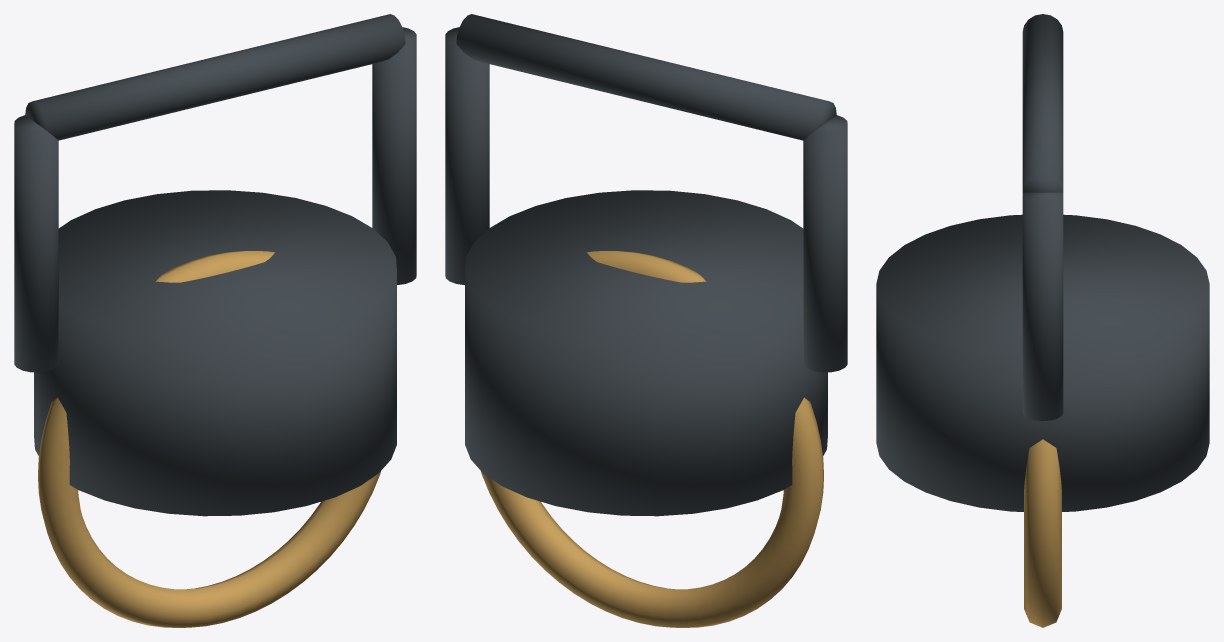
File: worklight.gltf
3 renders of one model, left to right at view 1: azimuth 30°, elevation 25°; view 2: azimuth 150°, elevation 25°; view 3: azimuth 270°, elevation 25°, orthographic. The views are drawn at different scales.
Parts seen in each view (by area): view 1: worklight; view 2: worklight; view 3: worklight.
Boxes of the visible parts, x1,y1,x2,y2 form: worklight: (14, 14, 416, 627); worklight: (445, 14, 847, 627); worklight: (876, 14, 1209, 627).
Bounding box in the file's own units: 0.554 × 0.752 × 0.44.
